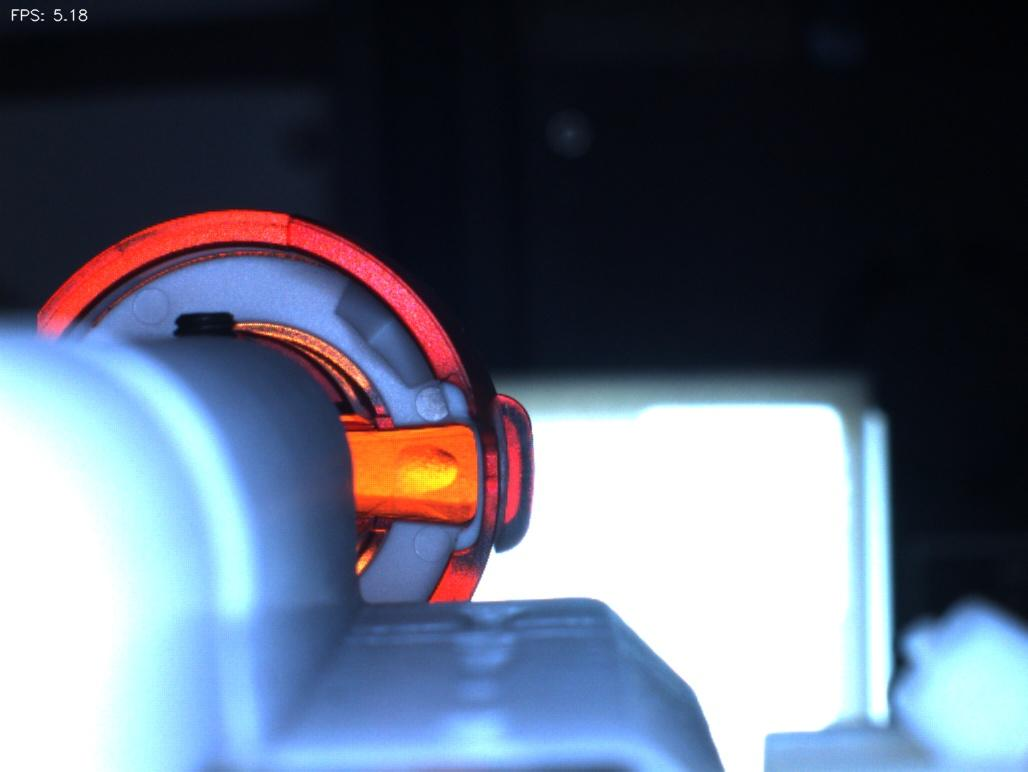Retassure: (381, 430, 470, 512)
